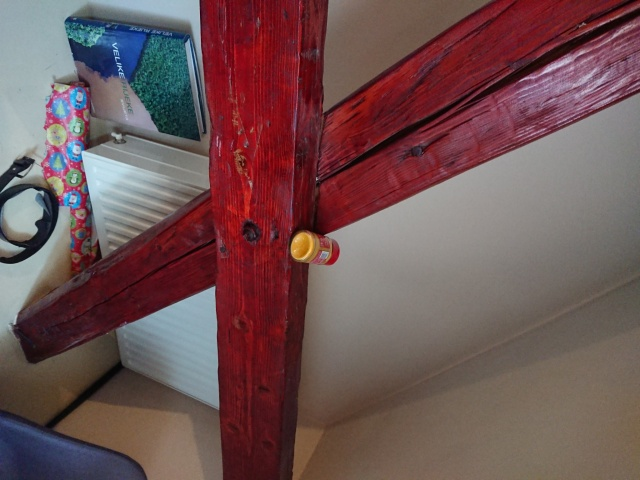Kotanyi Curry Spices Mix 70g: (288, 228, 341, 267)
